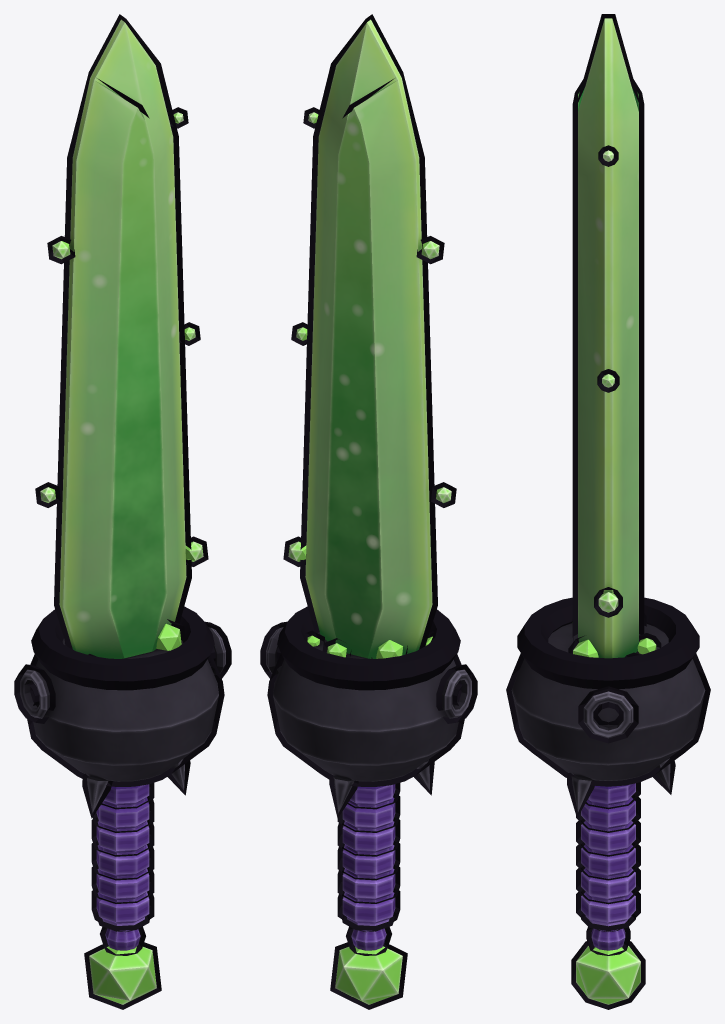
Rendered from WitchCauldronBlade.fbx.
3 renders of one model, left to right at view 1: azimuth 30°, elevation 25°; view 2: azimuth 150°, elevation 25°; view 3: azimuth 270°, elevation 25°, orthographic.
Parts seen in each view (by area): view 1: WitchCauldronBlade, WitchCauldronBladeOutline, WitchCauldronBladePotionGlow; view 2: WitchCauldronBlade, WitchCauldronBladeOutline, WitchCauldronBladePotionGlow; view 3: WitchCauldronBlade, WitchCauldronBladeOutline, WitchCauldronBladePotionGlow.
Boxes of the visible parts, box(x1,y1,x2,y2) form: WitchCauldronBlade: box(20, 19, 225, 950); WitchCauldronBladeOutline: box(14, 14, 231, 1009); WitchCauldronBladePotionGlow: box(40, 112, 203, 1004); WitchCauldronBlade: box(266, 19, 471, 950); WitchCauldronBladeOutline: box(260, 14, 477, 1009); WitchCauldronBladePotionGlow: box(288, 112, 451, 1004); WitchCauldronBlade: box(511, 18, 705, 950); WitchCauldronBladeOutline: box(506, 14, 710, 1009); WitchCauldronBladePotionGlow: box(573, 150, 656, 1004).
Size of the model in its own units: 88.3 by 431 by 80.38.
Materials: 2 (1 with a texture image).
